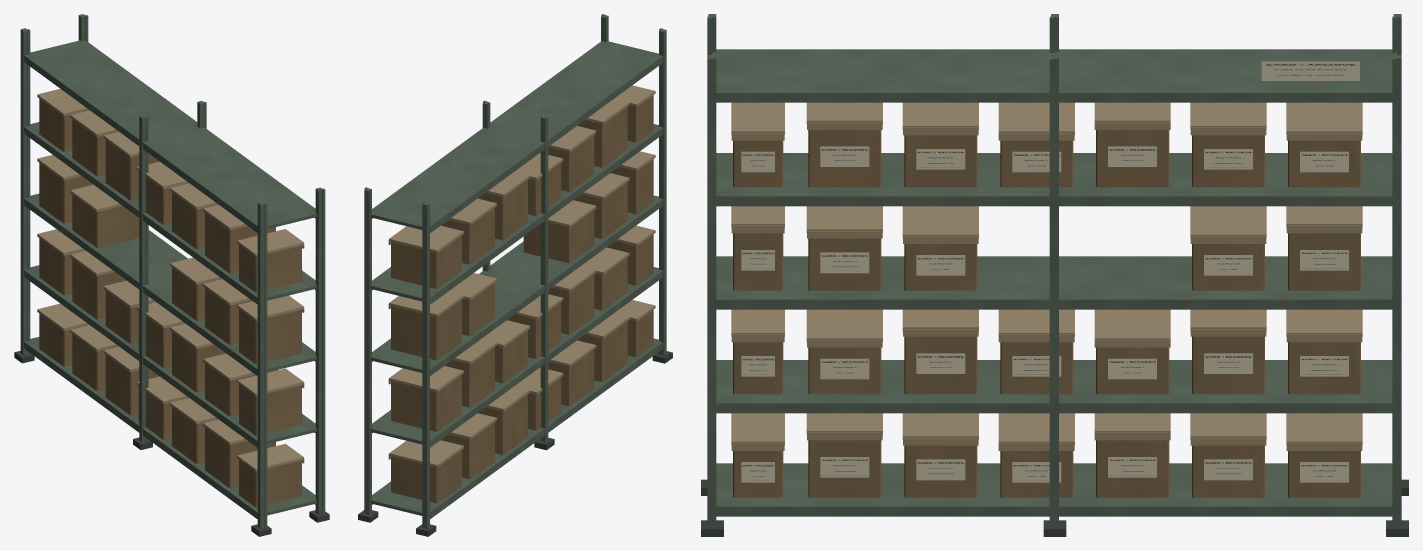
Rendered from SM_ArchiveProps_ShelvingStorage_LOD2.glb.
3 views of the same model, side by side, from view 1: azimuth 30°, elevation 25°; view 2: azimuth 150°, elevation 25°; view 3: azimuth 270°, elevation 25° (orthographic). The views are drawn at different scales.
Parts seen in each view (by area): view 1: SM_ArchiveProps_ShelvingStorage_LOD2; view 2: SM_ArchiveProps_ShelvingStorage_LOD2; view 3: SM_ArchiveProps_ShelvingStorage_LOD2.
Boxes of the visible parts, x1,y1,x2,y2 form: SM_ArchiveProps_ShelvingStorage_LOD2: (14, 14, 329, 536); SM_ArchiveProps_ShelvingStorage_LOD2: (358, 14, 672, 536); SM_ArchiveProps_ShelvingStorage_LOD2: (701, 14, 1408, 536).
Bounding box in the file's own units: 0.514 × 2.3 × 3.1.
5 materials, 3 textured.
